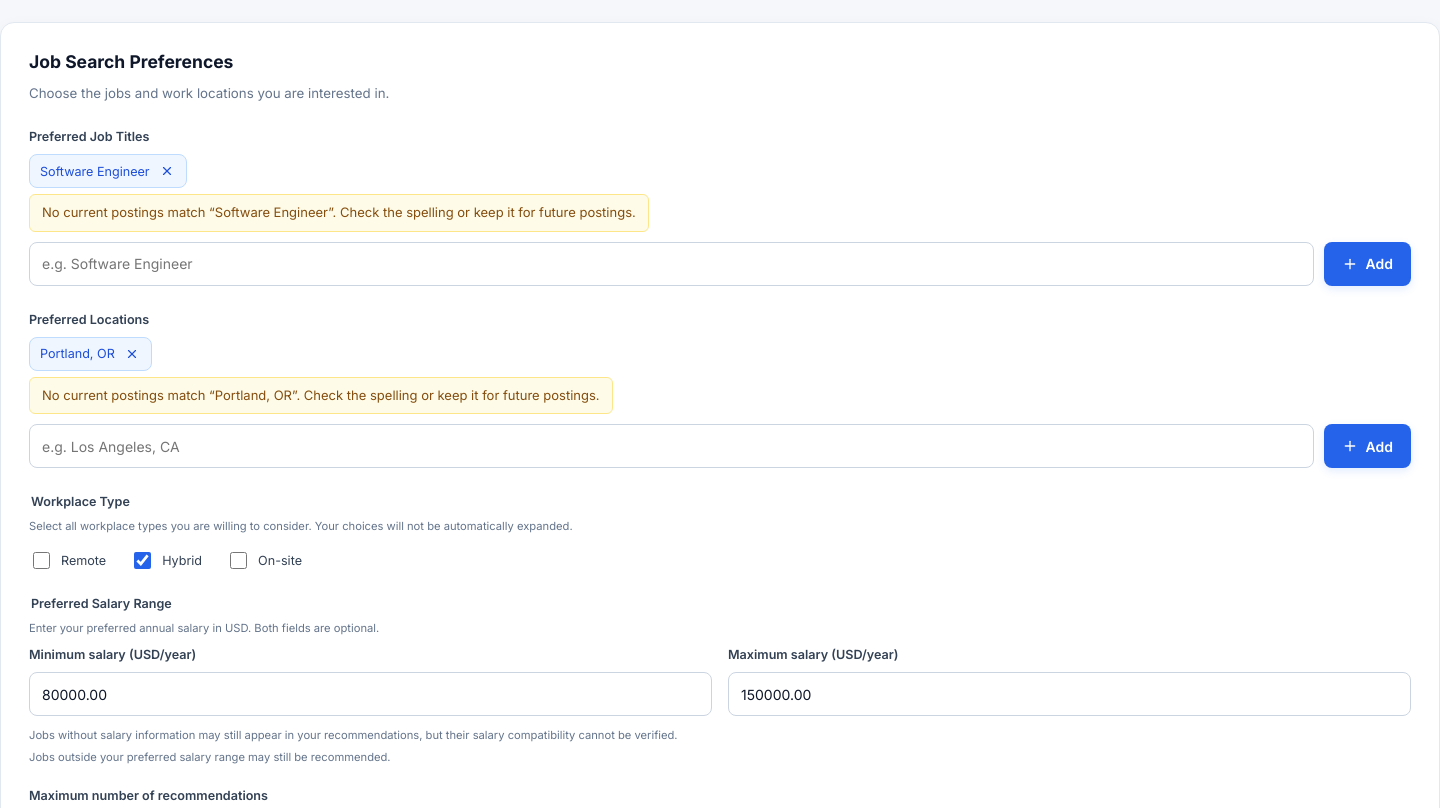
Scenario: SearchPreferencesForm (JH-021) › preserves a strict remote-only selection
Expected: the text "Software Engineer" is shown, [29,154,187,188]
Click the checkbox labelled "Hybrid" at {"x": 143, "y": 561}, box [134,552,151,569]
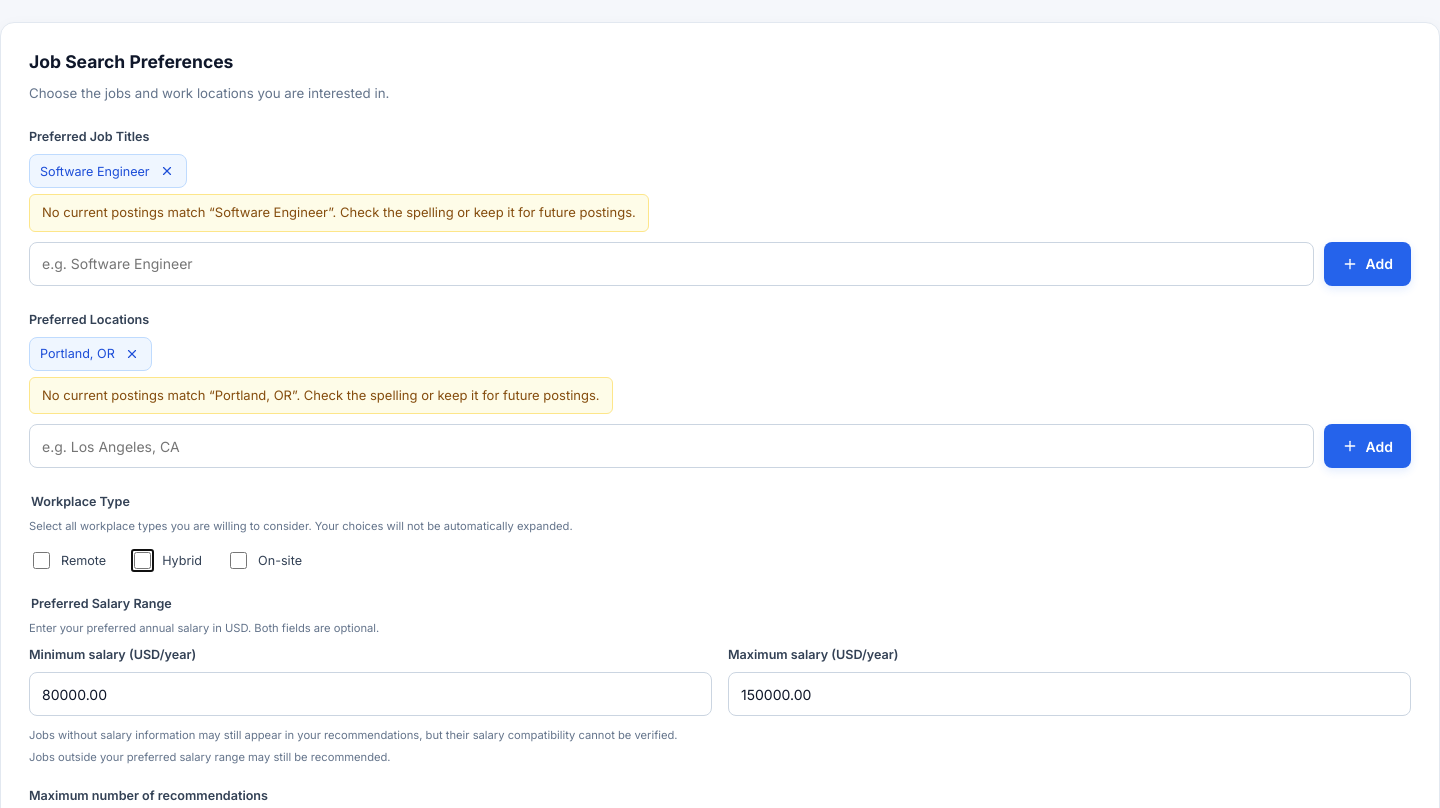
Click the checkbox labelled "Remote" at {"x": 42, "y": 561}, box [33,552,50,569]
(page scrolled)
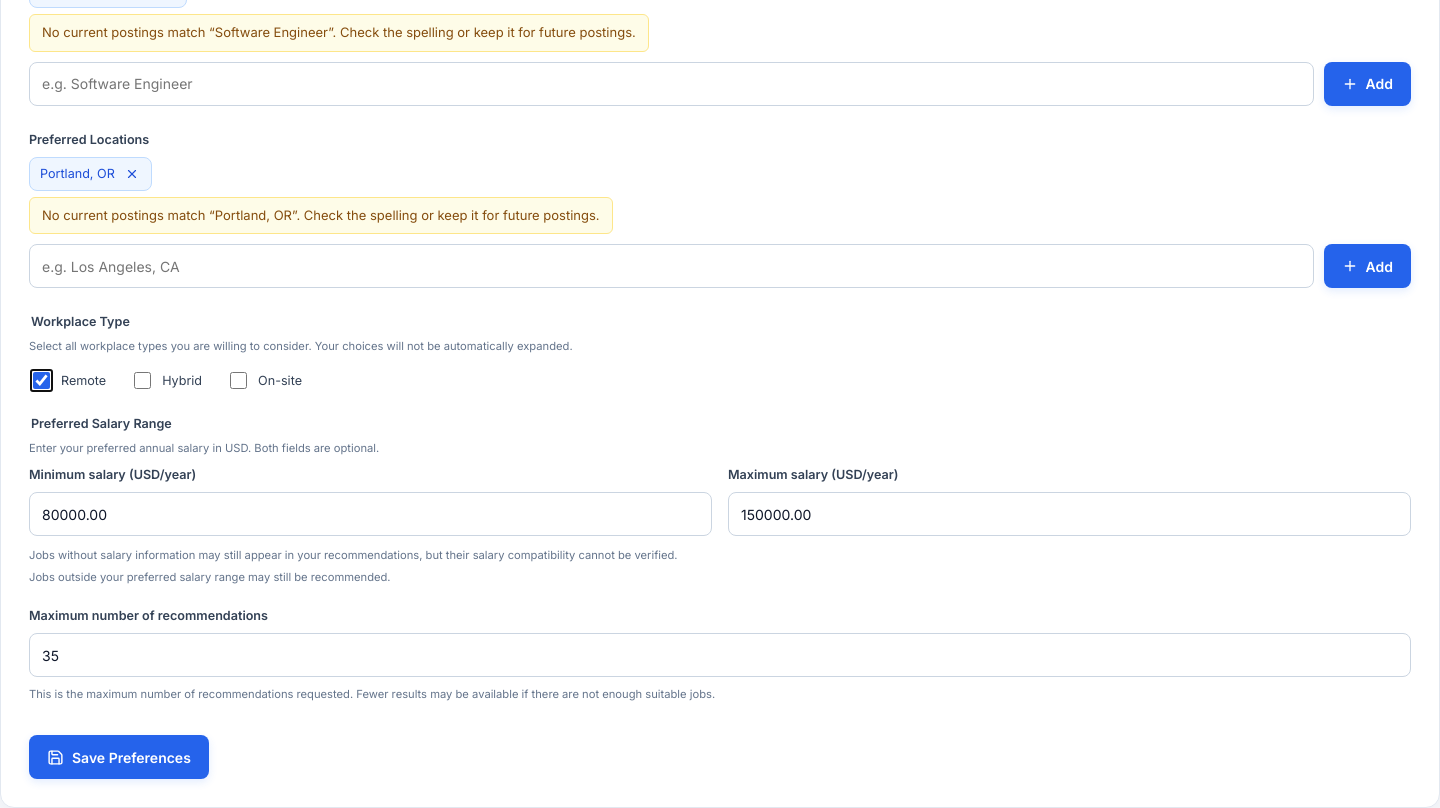
Click the button "Save Preferences" at {"x": 119, "y": 757}, box [29,735,209,779]
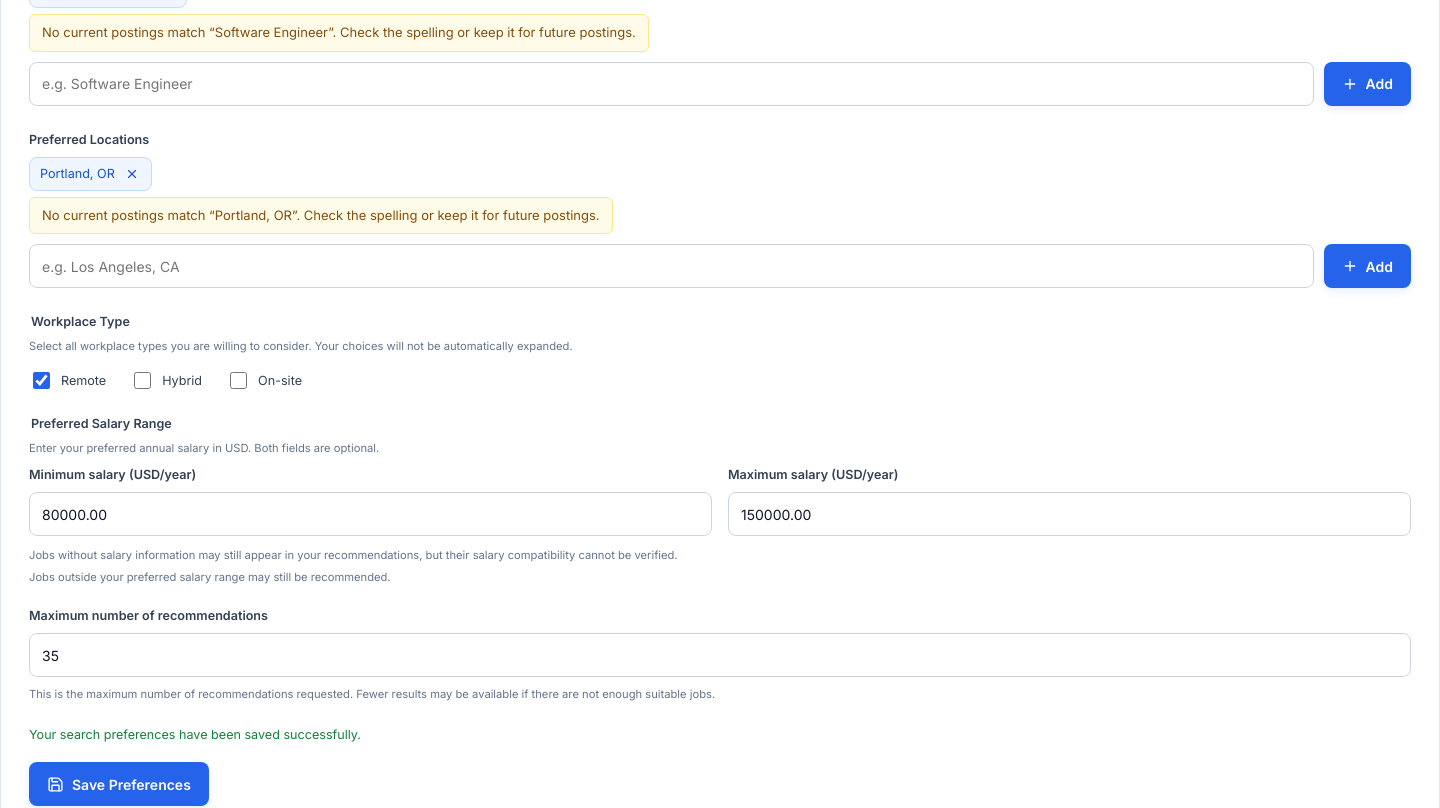
Result: the text "Your search preferences have been saved successfully." is shown at [29,727,361,742]
